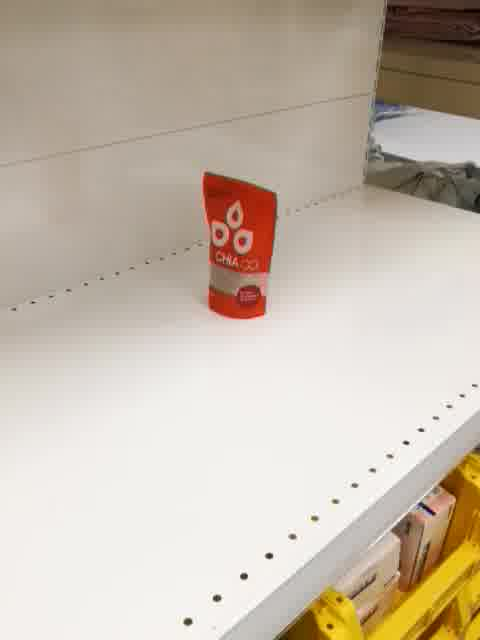whitechia: (199, 167, 280, 321)
